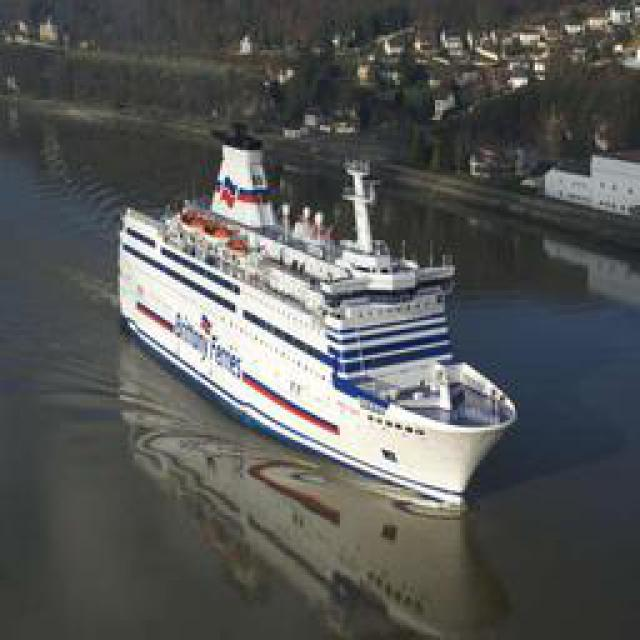Ship: (120, 157, 515, 517)
